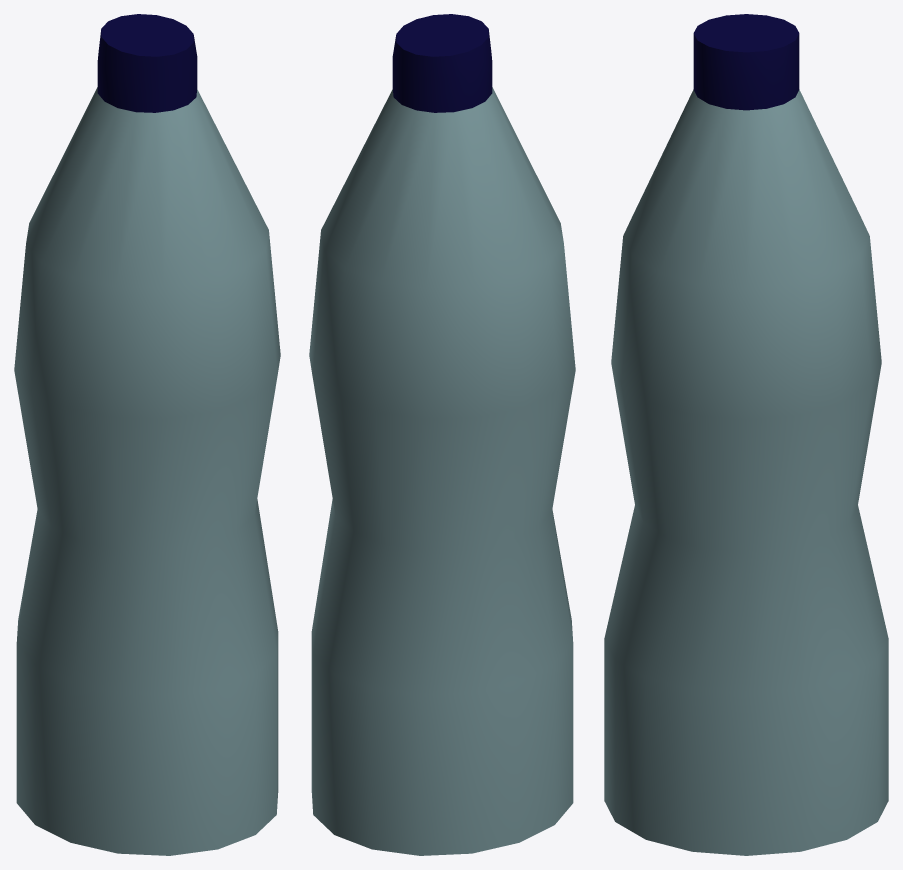
The model's file is Botella.fbx.
3 views of the same model, side by side, from view 1: azimuth 30°, elevation 25°; view 2: azimuth 150°, elevation 25°; view 3: azimuth 270°, elevation 25° (orthographic).
Parts seen in each view (by area): view 1: Botella; view 2: Botella; view 3: Botella.
Boxes of the visible parts, x1,y1,x2,y2 form: Botella: (14,14,280,855); Botella: (309,14,575,855); Botella: (604,14,888,855).
Size of the model in its own units: 7.68 by 24.03 by 8.07.
